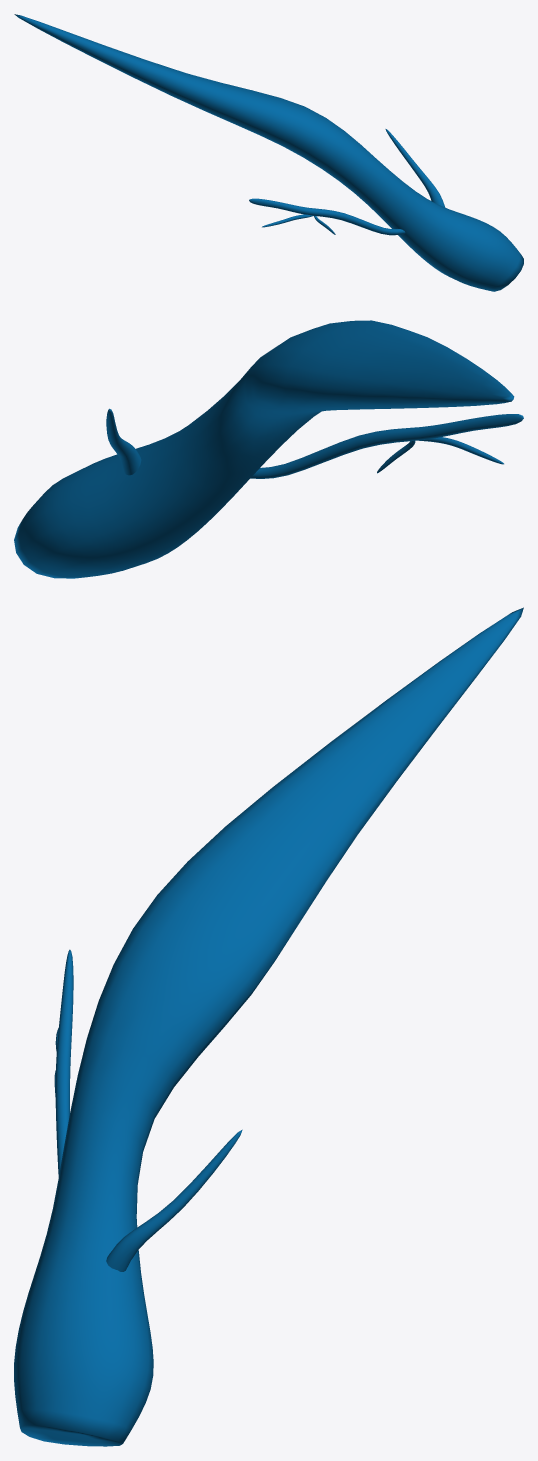
File: light-branch.obj
The picture shows the model from 3 angles, top to bottom: view 1: azimuth 30°, elevation 25°; view 2: azimuth 150°, elevation 25°; view 3: azimuth 270°, elevation 25°; orthographic projection. The views are drawn at different scales.
Parts seen in each view (by area): view 1: BigTree.002_Cube.830; view 2: BigTree.002_Cube.830; view 3: BigTree.002_Cube.830.
Part boxes in pixels (box(x1,y1,x2,y2)): BigTree.002_Cube.830: box(14, 14, 523, 291); BigTree.002_Cube.830: box(14, 320, 523, 578); BigTree.002_Cube.830: box(14, 607, 523, 1446).
Size of the model in its own units: 2.67 by 1.79 by 1.61.
